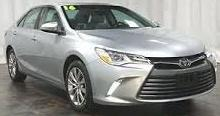Cars: (6, 5, 216, 110)
